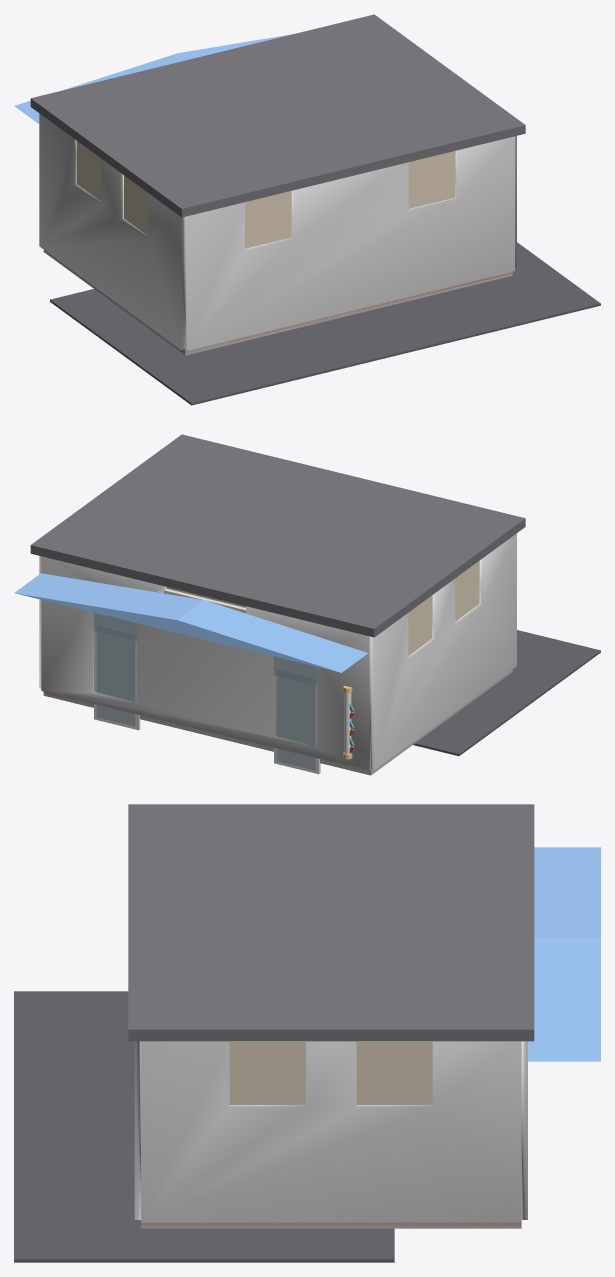
File: barber_shop.glb
3 renders of one model, top to bottom at view 1: azimuth 30°, elevation 25°; view 2: azimuth 150°, elevation 25°; view 3: azimuth 270°, elevation 25°, orthographic. The views are drawn at different scales.
Visible parts, largest first — view 1: roof, back_wall, sidewalk, left_wall, upper_stucco, foundation, awning, lower_brick; view 2: roof, front_wall, left_wall, awning, frame (×4), glass (×4), sidewalk, upper_stucco, foundation; view 3: roof, right_wall, sidewalk, awning, upper_stucco, foundation, front_wall, back_wall, lower_brick.
Part boxes in pixels (left/top/right/bottom): roof: left=30, top=14, right=525, bottom=217; back_wall: left=185, top=136, right=514, bottom=350; sidewalk: left=50, top=242, right=600, bottom=405; left_wall: left=39, top=113, right=185, bottom=349; upper_stucco: left=76, top=141, right=455, bottom=248; foundation: left=43, top=250, right=512, bottom=355; awning: left=14, top=34, right=293, bottom=123; lower_brick: left=58, top=260, right=511, bottom=352; roof: left=30, top=434, right=525, bottom=637; front_wall: left=41, top=556, right=370, bottom=770; left_wall: left=371, top=533, right=516, bottom=769; awning: left=14, top=573, right=368, bottom=672; frame (×4): left=94, top=613, right=320, bottom=774; glass (×4): left=93, top=612, right=317, bottom=770; sidewalk: left=413, top=630, right=600, bottom=756; upper_stucco: left=166, top=561, right=479, bottom=655; foundation: left=43, top=670, right=512, bottom=775; roof: left=128, top=804, right=534, bottom=1041; right_wall: left=141, top=1041, right=521, bottom=1222; sidewalk: left=14, top=991, right=394, bottom=1262; awning: left=528, top=847, right=600, bottom=1061; upper_stucco: left=229, top=1041, right=432, bottom=1104; foundation: left=141, top=1222, right=521, bottom=1228; front_wall: left=521, top=1041, right=527, bottom=1219; back_wall: left=134, top=1041, right=140, bottom=1219; lower_brick: left=141, top=1222, right=521, bottom=1225.
Bounding box in the file's own units: 10 × 3.8 × 9.25.
